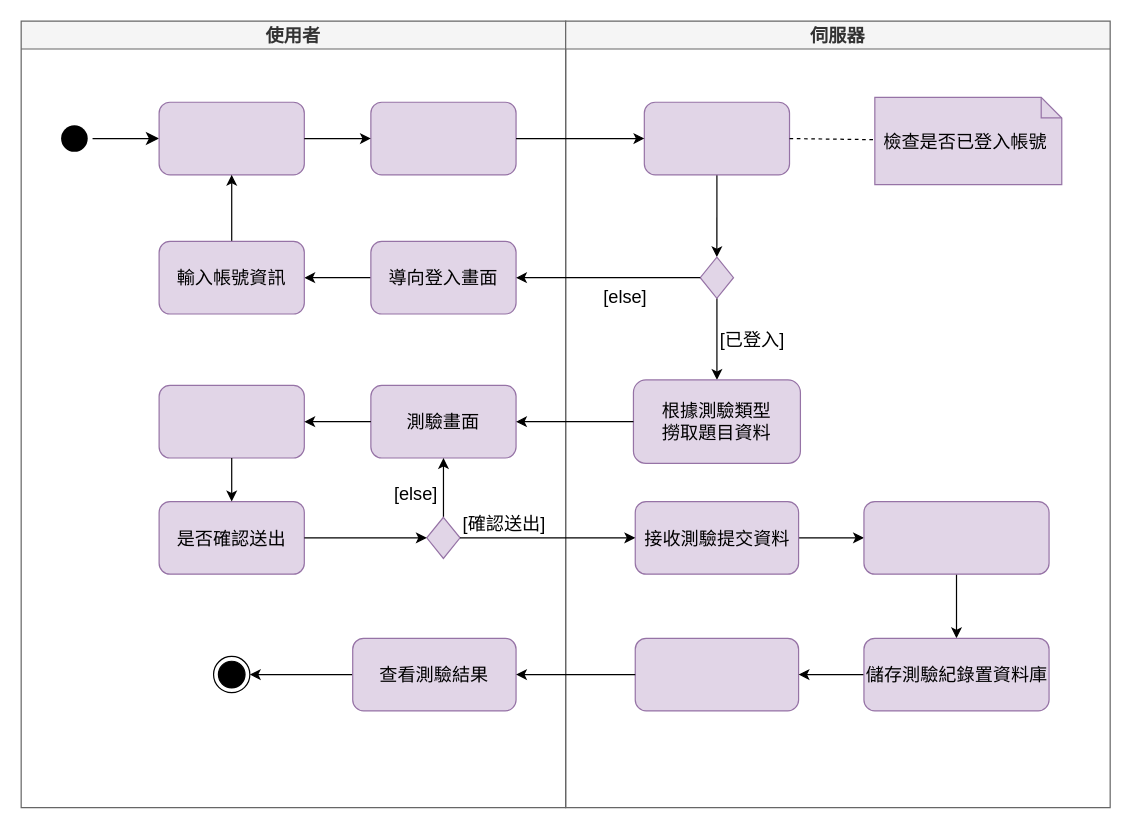
The diagram is 1131 pixels wide and 829 high, and some of its shapes have lost their labels. Each missing label, with the box of its shape:
回傳評分結果 與分析給使用者: (634, 637, 799, 711)
完成作答: (158, 384, 304, 458)
進行評分與作答分析: (863, 500, 1049, 574)
選擇測驗類型: (370, 101, 516, 175)
驗證登入狀態: (643, 101, 790, 175)
點擊測驗畫面: (158, 101, 304, 175)
